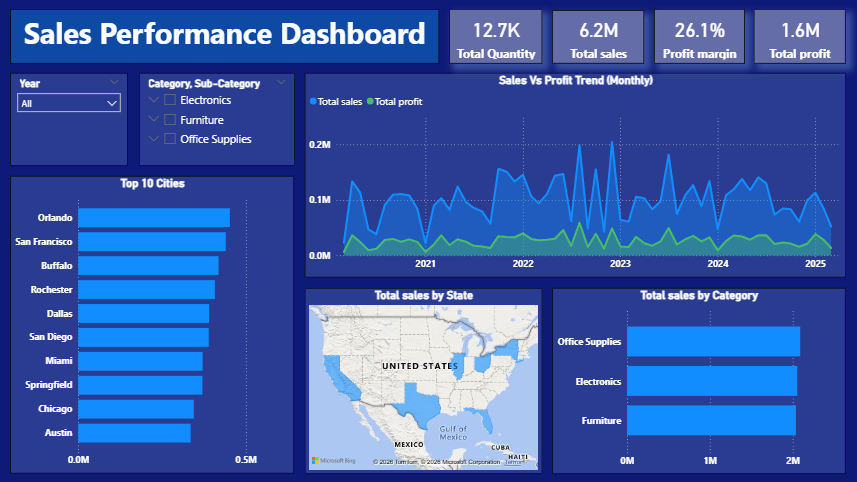

The page's visual inventory and layout, read from the dashboard file:
{"tool":"powerbi","page":{"name":"Page 1","canvas":[1280,720],"ordinal":0},"visuals":[{"type":"card","fields":{"Values":["Sales Dataset.Total profit"]},"box":[1123.6,15.6,136.8,81.4],"z":0},{"type":"lineChart","title":"Sales Vs Profit Trend (Monthly) ","fields":{"Y":["Sales Dataset.Total sales","Sales Dataset.Total profit"],"Category":["Sales Dataset.Order Date.Variation.Date Hierarchy.Year","Sales Dataset.Order Date.Variation.Date Hierarchy.Month"]},"box":[455.3,110.8,805,304.7],"z":1000},{"type":"clusteredBarChart","fields":{"Category":["Sales Dataset.Category"],"Y":["Sales Dataset.Total sales"]},"box":[824.1,429.3,436.3,277],"z":2000},{"type":"filledMap","fields":{"Category":["Sales Dataset.State"]},"box":[455.3,429.3,353.2,277],"z":3000},{"type":"card","fields":{"Values":["Sales Dataset.Profit margin"]},"box":[974.7,15.6,135,81.4],"z":4000},{"type":"slicer","fields":{"Values":["Sales Dataset.Year"]},"box":[17.3,110.8,174.9,138.5],"z":5000},{"type":"slicer","fields":{"Values":["Sales Dataset.Category","Sales Dataset.Sub-Category"]},"box":[207.7,110.8,232,138.5],"z":6000},{"type":"clusteredBarChart","title":"Top 10 Cities","fields":{"Category":["Sales Dataset.City"],"Y":["Sales Dataset.Total sales"]},"box":[17.3,263.1,422.4,443.2],"z":7000},{"type":"textbox","box":[17.3,15.6,638.8,81.4],"z":8000},{"type":"card","fields":{"Values":["Sales Dataset.Total Quantity"]},"box":[670,15.6,138.5,81.4],"z":9000},{"type":"card","fields":{"Values":["Sales Dataset.Total sales"]},"box":[824.1,17.3,136.8,79.6],"z":10000}]}

Visuals, with their boxes in screenshot pixels (x1, y1, x2, y2), scaled from the page's 1280x720 canvas onto the 857x482 screenshot:
card - Sales Dataset.Total profit: 752:10:844:65
"Sales Vs Profit Trend (Monthly) " lineChart: 305:74:844:278
clusteredBarChart - Sales Dataset.Category x Sales Dataset.Total sales: 552:287:844:473
filledMap - Sales Dataset.State: 305:287:541:473
card - Sales Dataset.Profit margin: 653:10:743:65
slicer - Sales Dataset.Year: 12:74:129:167
slicer - Sales Dataset.Category x Sales Dataset.Sub-Category: 139:74:294:167
"Top 10 Cities" clusteredBarChart: 12:176:294:473
textbox: 12:10:439:65
card - Sales Dataset.Total Quantity: 449:10:541:65
card - Sales Dataset.Total sales: 552:12:643:65
